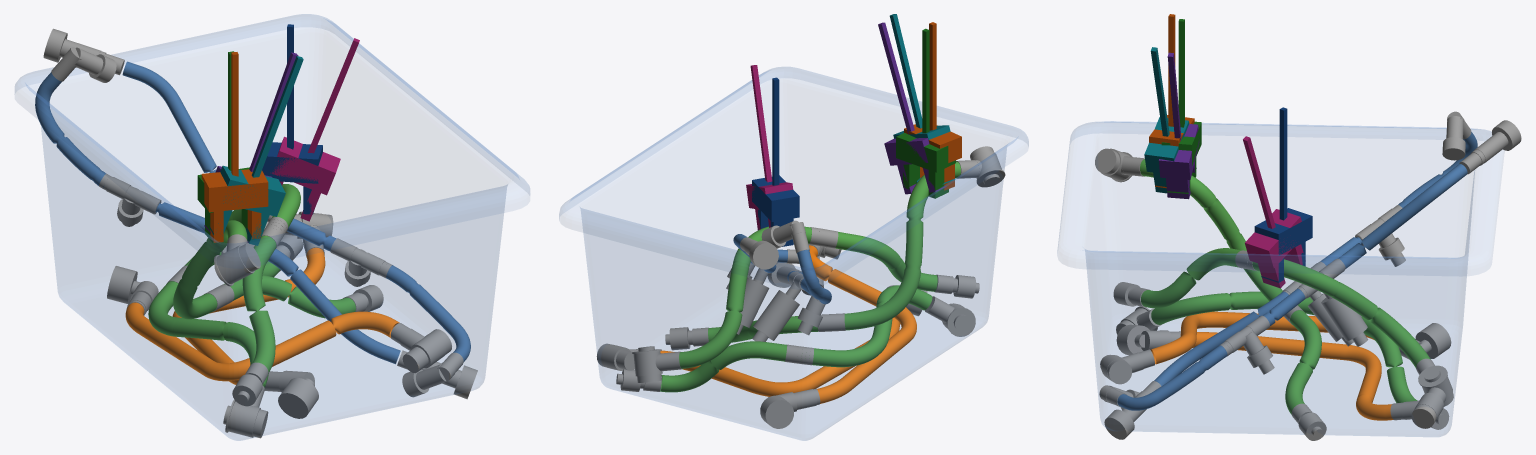
Rendered from bin3d_grasp.glb.
3 views of the same model, side by side, from view 1: azimuth 30°, elevation 25°; view 2: azimuth 150°, elevation 25°; view 3: azimuth 270°, elevation 25° (orthographic). The views are drawn at different scales.
Parts seen in each view (by area): view 1: bin1_s08_full_v2t; view 2: bin1_s08_full_v2t; view 3: bin1_s08_full_v2t.
Boxes of the visible parts, bbox=[...] form: bin1_s08_full_v2t: bbox=[15, 14, 529, 440]; bin1_s08_full_v2t: bbox=[559, 14, 1028, 440]; bin1_s08_full_v2t: bbox=[1057, 14, 1521, 440].
Size of the model in its own units: 0.3086 by 0.3365 by 0.4228.
